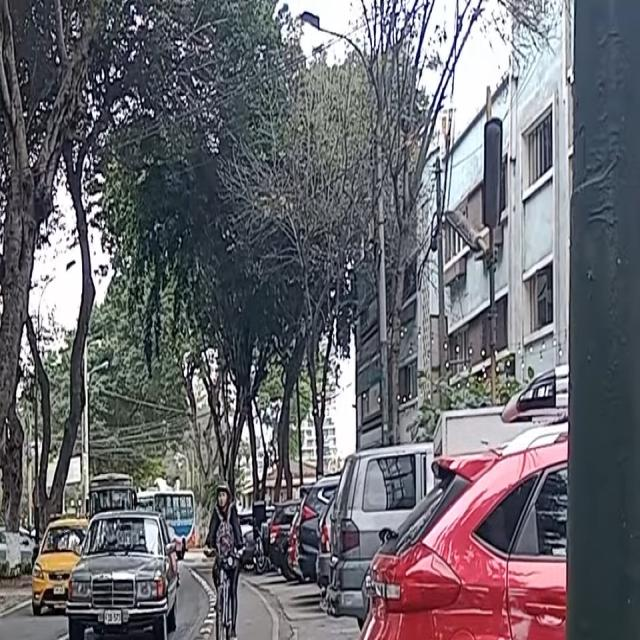bicycle: (206, 545, 243, 640)
car: (69, 512, 180, 640), (31, 518, 90, 614), (0, 513, 3, 640)
